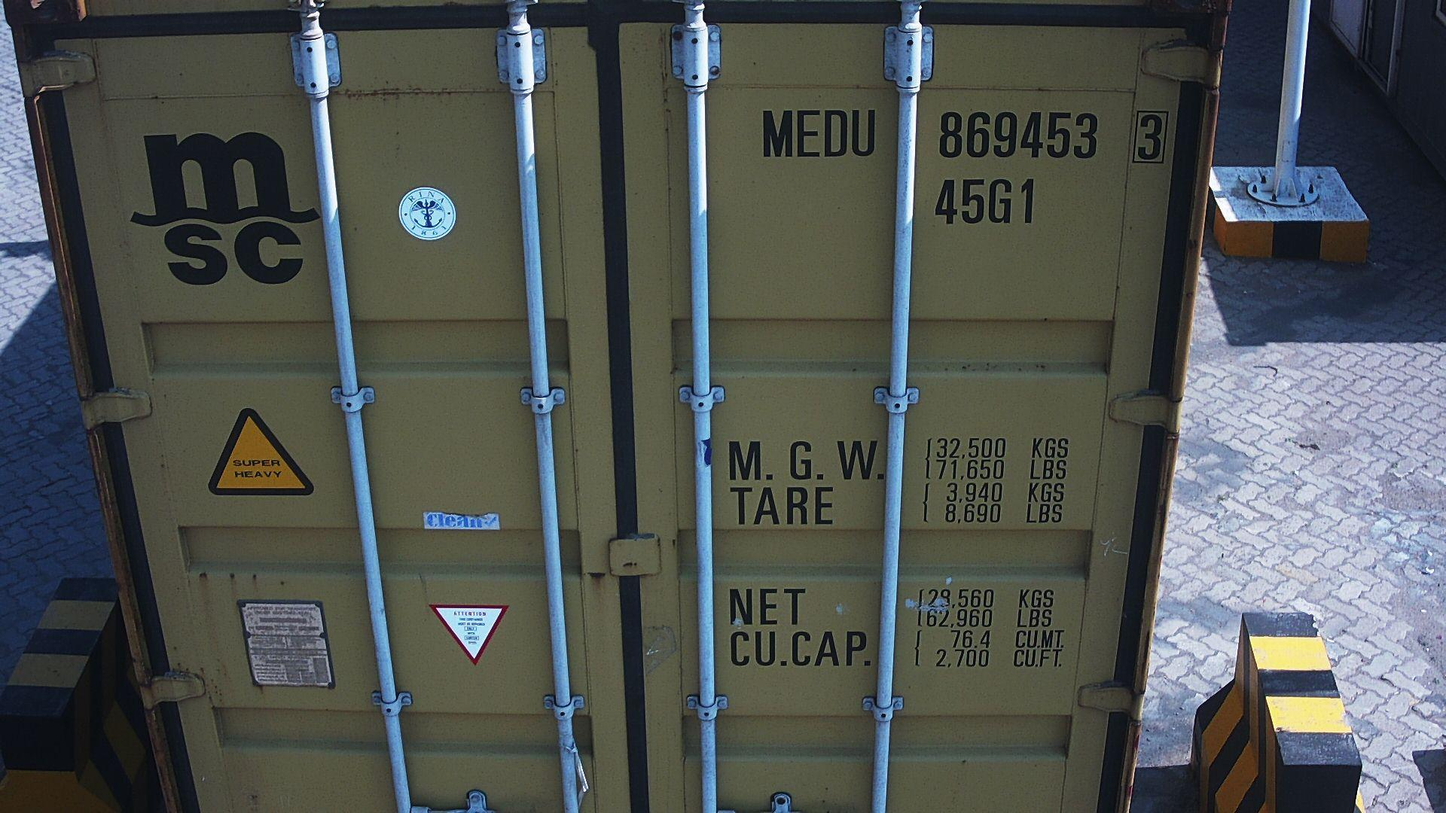container-numbers: (756, 104, 1177, 169), (929, 175, 1039, 229)
